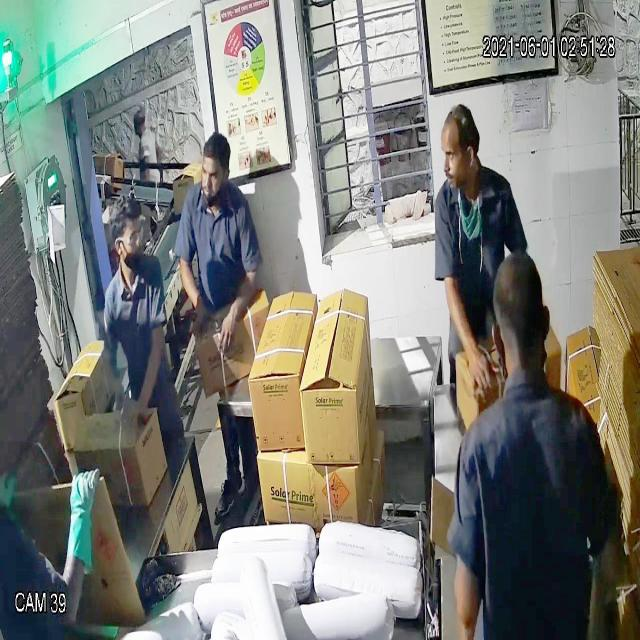glasses: (106, 224, 148, 257)
no-glass: (439, 140, 478, 174)
